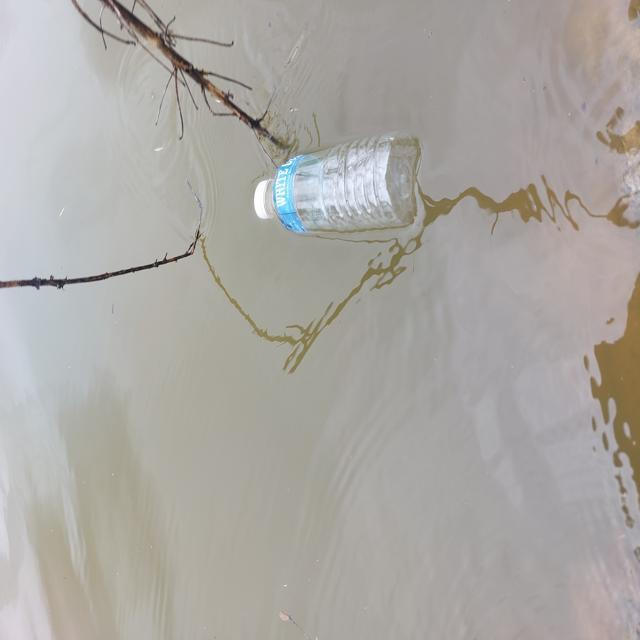waterbottle: (248, 139, 437, 234)
